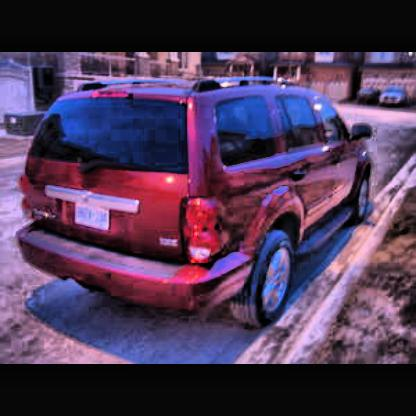Dodge Durango SUV 2007: (15, 74, 383, 333)
